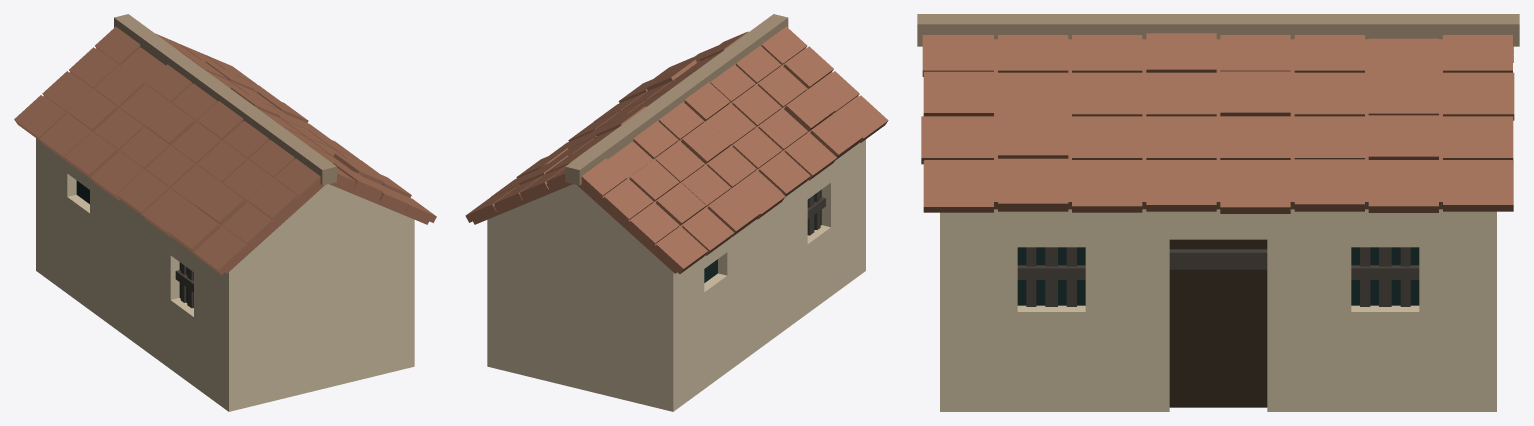
File: Building_mode_L2_Northhouse024.fbx
3 views of the same model, side by side, from view 1: azimuth 30°, elevation 25°; view 2: azimuth 150°, elevation 25°; view 3: azimuth 270°, elevation 25° (orthographic). The views are drawn at different scales.
Visible parts, largest first — view 1: Building_mode_L2_Northhouse024; view 2: Building_mode_L2_Northhouse024; view 3: Building_mode_L2_Northhouse024.
Part boxes in pixels (bbox=[...]): Building_mode_L2_Northhouse024: bbox=[14, 14, 436, 411]; Building_mode_L2_Northhouse024: bbox=[465, 14, 888, 411]; Building_mode_L2_Northhouse024: bbox=[917, 14, 1519, 411].
Bounding box in the file's own units: 2.88 × 2.83 × 4.71.
